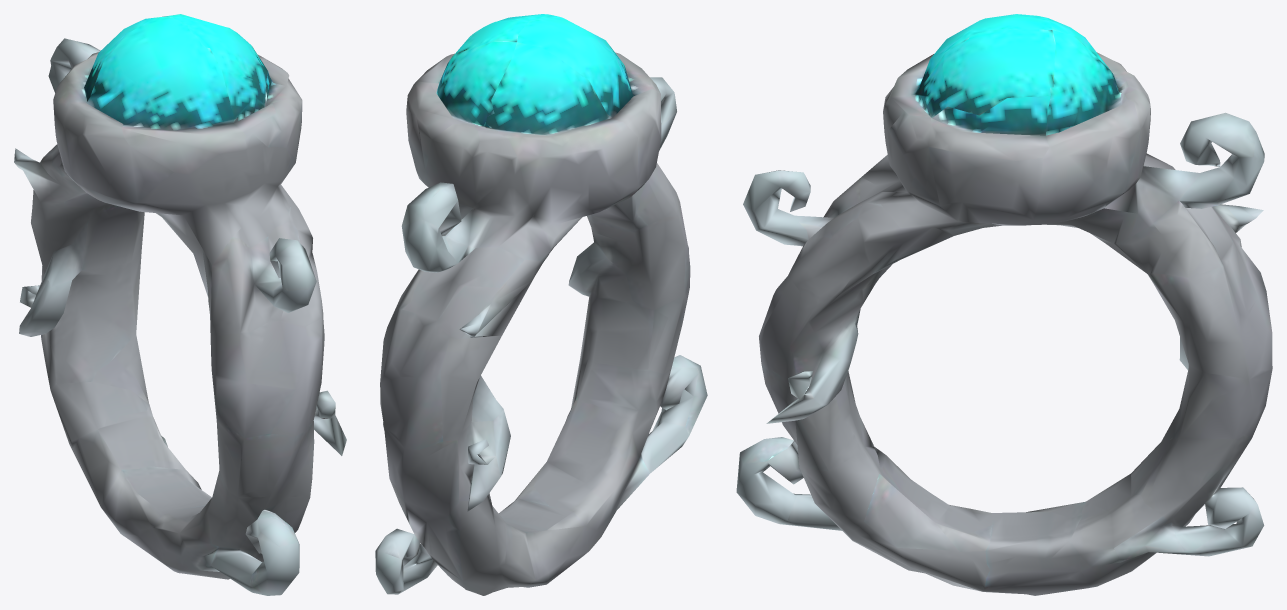
Rendered from uq_ring_winds-BD4SV3FY.glb.
The picture shows the model from 3 angles, left to right: view 1: azimuth 30°, elevation 25°; view 2: azimuth 150°, elevation 25°; view 3: azimuth 270°, elevation 25°; orthographic projection. The views are drawn at different scales.
Visible parts, largest first — view 1: tripo_node_509c61a6-ff1d-4722-aa16-cb33885fe054; view 2: tripo_node_509c61a6-ff1d-4722-aa16-cb33885fe054; view 3: tripo_node_509c61a6-ff1d-4722-aa16-cb33885fe054.
Part boxes in pixels (<box>): tripo_node_509c61a6-ff1d-4722-aa16-cb33885fe054: <box>14,14,346,595</box>; tripo_node_509c61a6-ff1d-4722-aa16-cb33885fe054: <box>375,14,707,595</box>; tripo_node_509c61a6-ff1d-4722-aa16-cb33885fe054: <box>736,14,1272,595</box>.
Size of the model in its own units: 0.4249 by 1 by 0.8665.
1 material, 1 textured.
